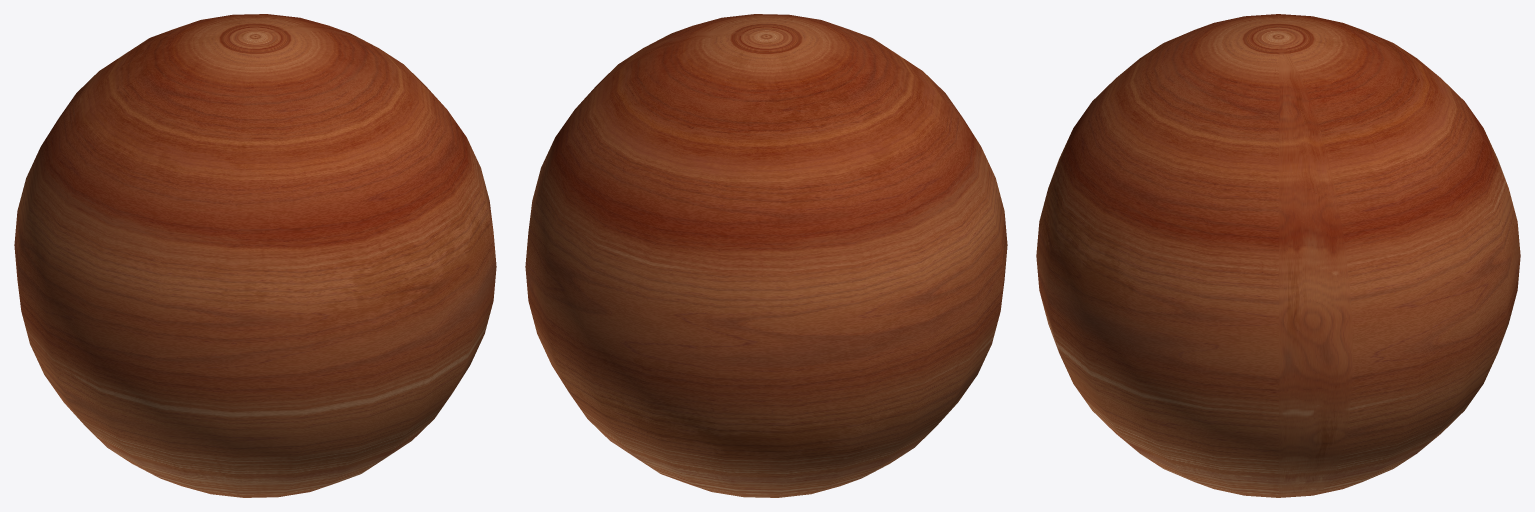
File: PBR - Metallic Roughness.glb
3 renders of one model, left to right at view 1: azimuth 30°, elevation 25°; view 2: azimuth 150°, elevation 25°; view 3: azimuth 270°, elevation 25°, orthographic.
Visible parts, largest first — view 1: pSphere1_1001; view 2: pSphere1_1001; view 3: pSphere1_1001.
Boxes of the visible parts, left/top/right/bottom form: pSphere1_1001: left=14, top=14, right=496, bottom=497; pSphere1_1001: left=525, top=14, right=1007, bottom=497; pSphere1_1001: left=1036, top=14, right=1520, bottom=497.
Bounding box in the file's own units: 2 × 2 × 2.
1 material, 1 textured.
